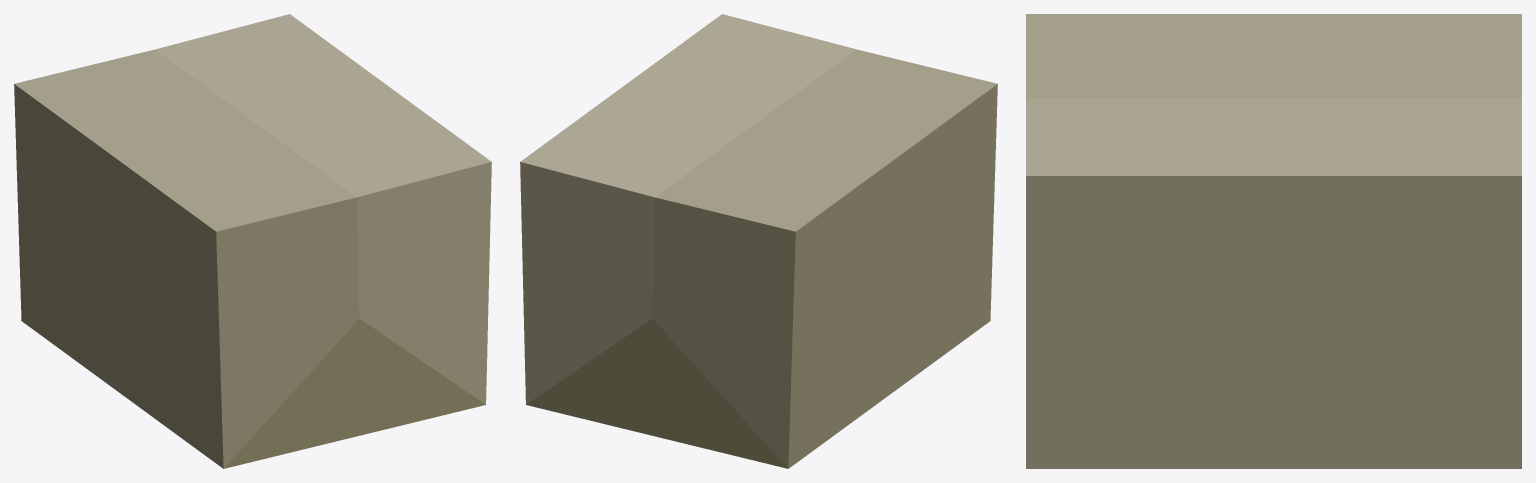
Rendered from clutter_box1.fbx.
3 views of the same model, side by side, from view 1: azimuth 30°, elevation 25°; view 2: azimuth 150°, elevation 25°; view 3: azimuth 270°, elevation 25° (orthographic). The views are drawn at different scales.
Parts seen in each view (by area): view 1: Box02; view 2: Box02; view 3: Box02.
Boxes of the visible parts, left/top/right/bottom form: Box02: left=14, top=14, right=491, bottom=468; Box02: left=520, top=14, right=997, bottom=468; Box02: left=1026, top=14, right=1521, bottom=468.
Size of the model in its own units: 945 by 1200 by 792.
